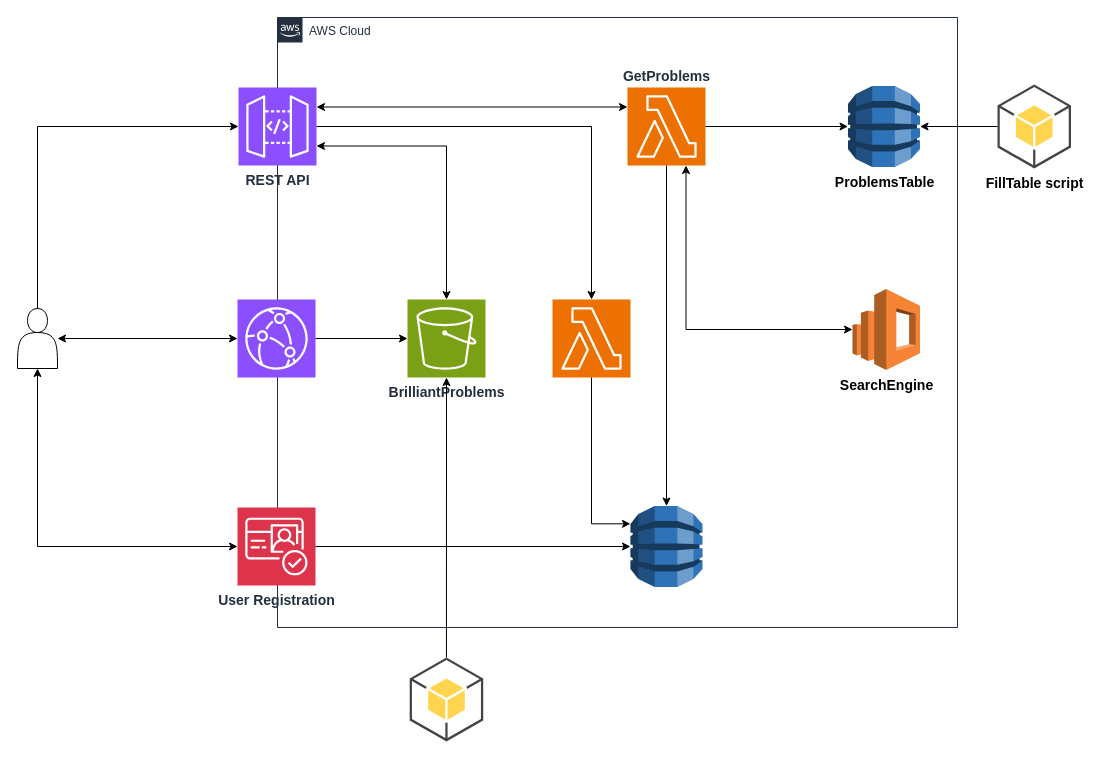
Image size: 1101x783. Some labels were removed from this diagram. Here are the shapes that lost their labels. From the top down, the centre of each, then its label:
the point at 276,338: CDN
the point at 591,338: UpdateUserProblem
the point at 666,546: UsersTable
the point at 446,699: RenameFiles script
